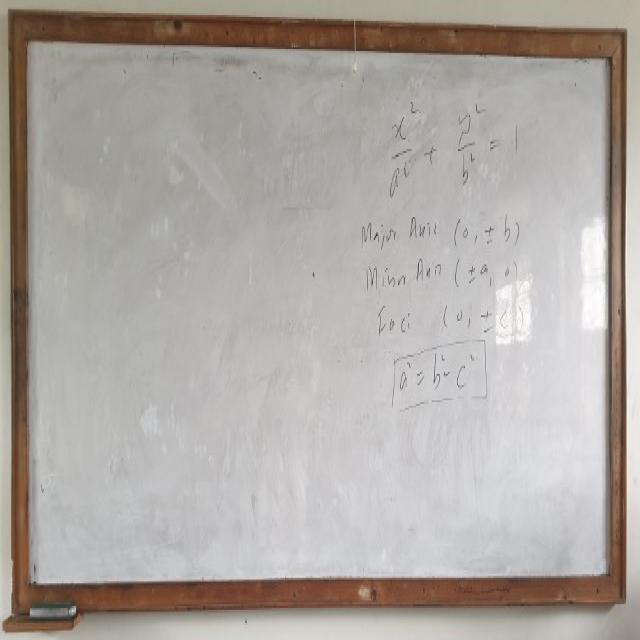White-board: (17, 15, 620, 598)
